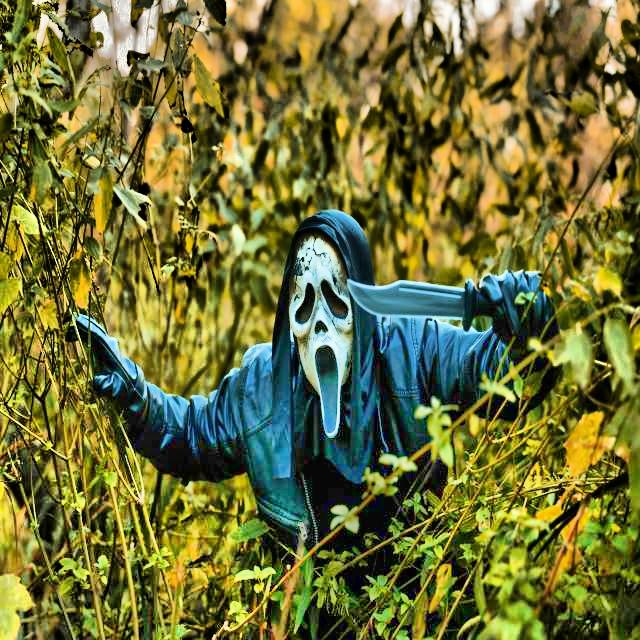knife: (348, 264, 546, 326)
